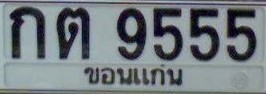txt01: (8, 5, 47, 61)
txt16: (55, 6, 91, 61)
